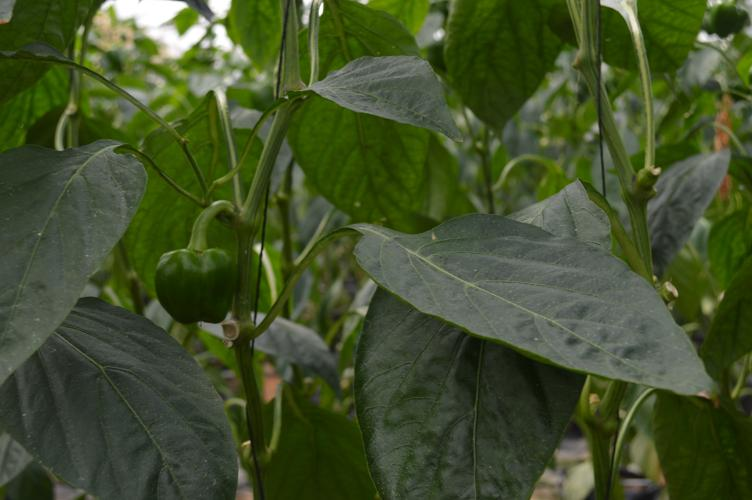BellPepper: (153, 247, 233, 326)
